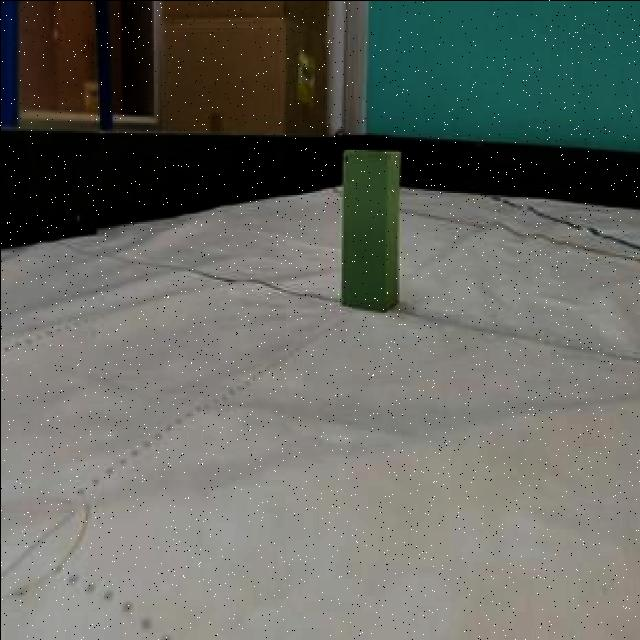greenbox: (342, 146, 400, 310)
